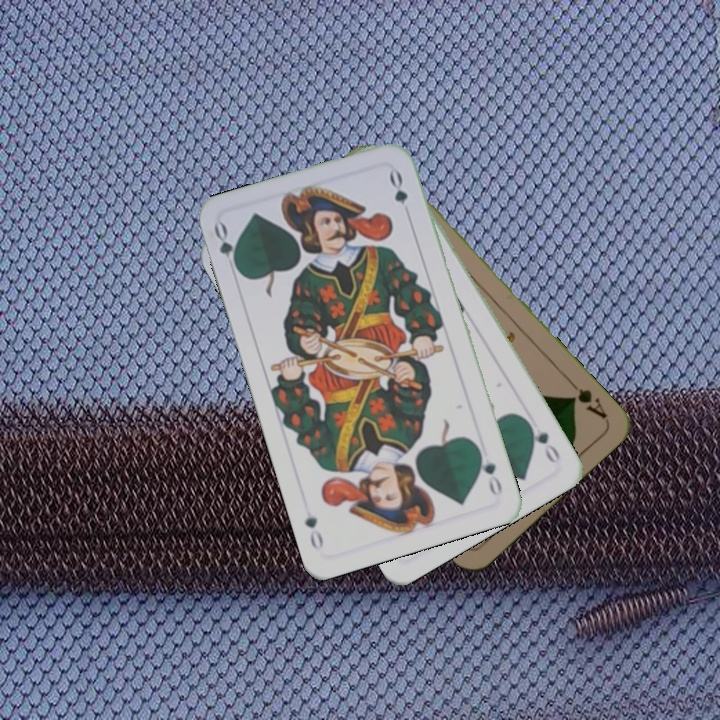GA: (564, 375, 610, 422)
GO: (522, 416, 563, 467), (209, 219, 243, 277), (473, 443, 505, 499)
